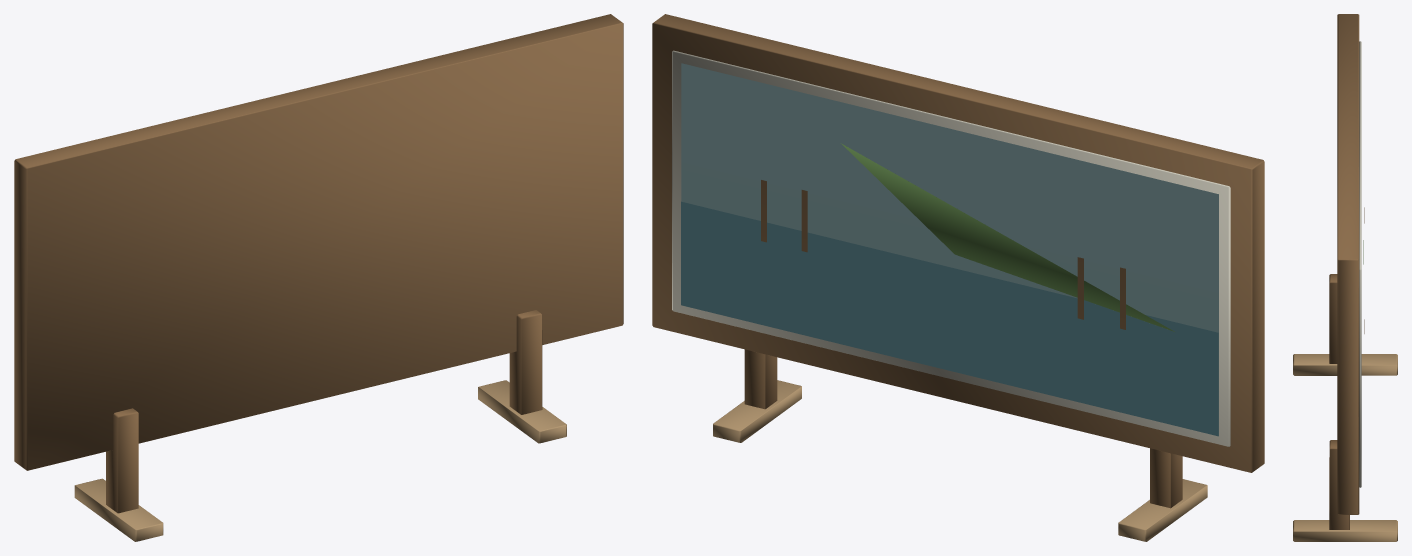
The model's file is mural_stage2_low.glb.
3 renders of one model, left to right at view 1: azimuth 30°, elevation 25°; view 2: azimuth 150°, elevation 25°; view 3: azimuth 270°, elevation 25°, orthographic. The views are drawn at different scales.
Bounding box in the file's own units: 4 × 2.4 × 0.72.
